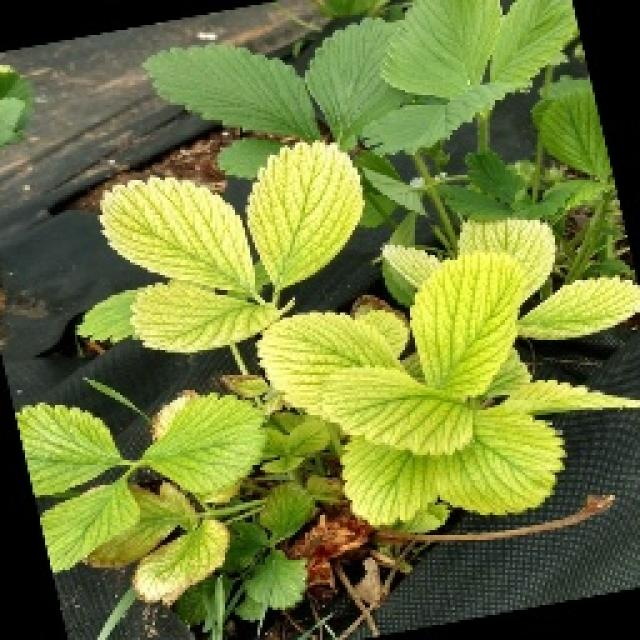Chlorosis: (50, 108, 577, 544)
